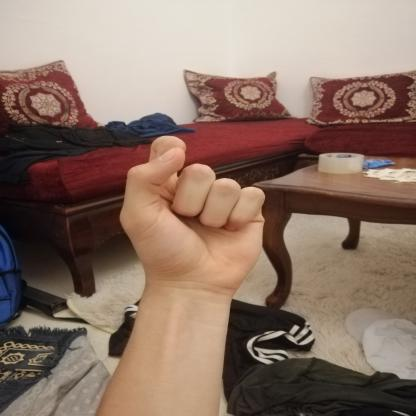FAA: (102, 124, 284, 302)
